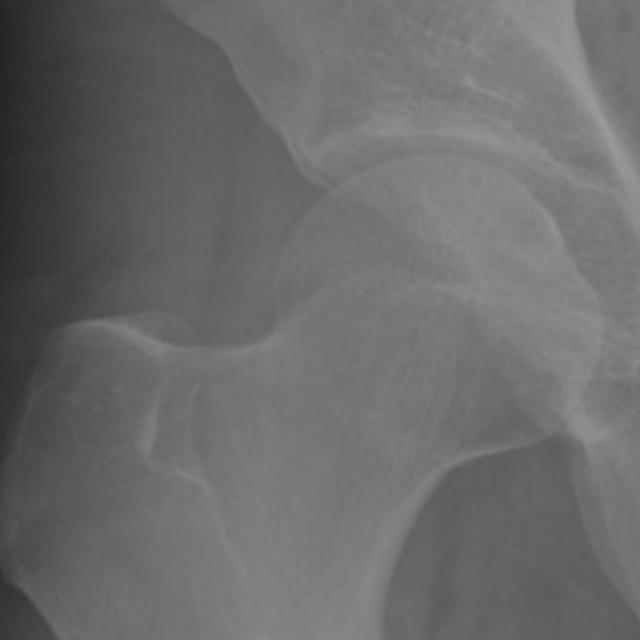Fitted_femural_head: (328, 158, 432, 328)
